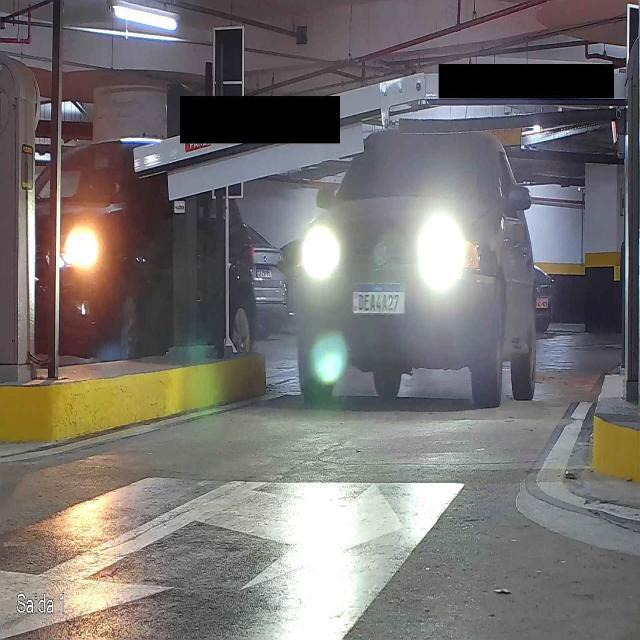mercosul_plate: (351, 281, 407, 315)
